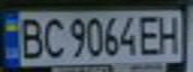0: (84, 15, 106, 57)
4: (118, 12, 139, 57)
6: (103, 14, 124, 57)
9: (66, 15, 87, 58)
B: (15, 15, 48, 61)
C: (39, 15, 66, 60)
E: (136, 12, 163, 56)
H: (154, 12, 187, 55)
